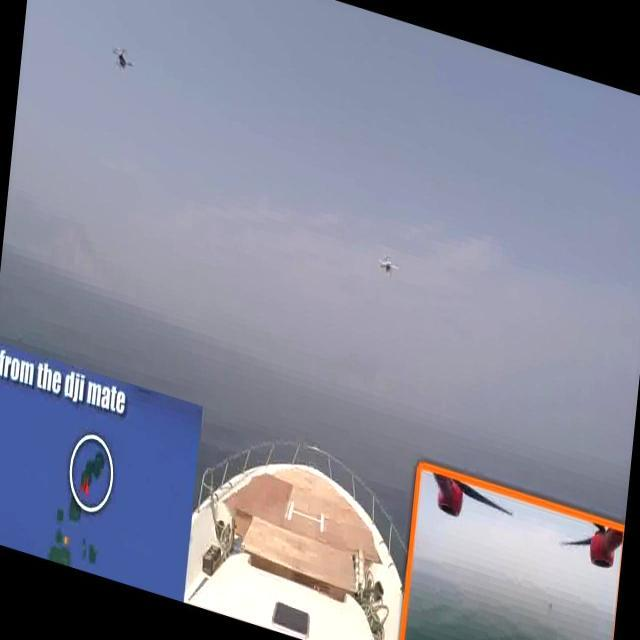drone: (372, 246, 404, 285), (110, 40, 136, 76)
